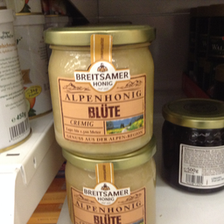honey: (44, 27, 160, 151), (62, 152, 161, 224)
